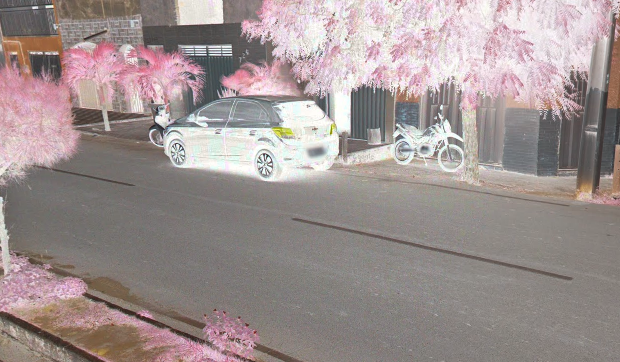car: (157, 90, 344, 190)
